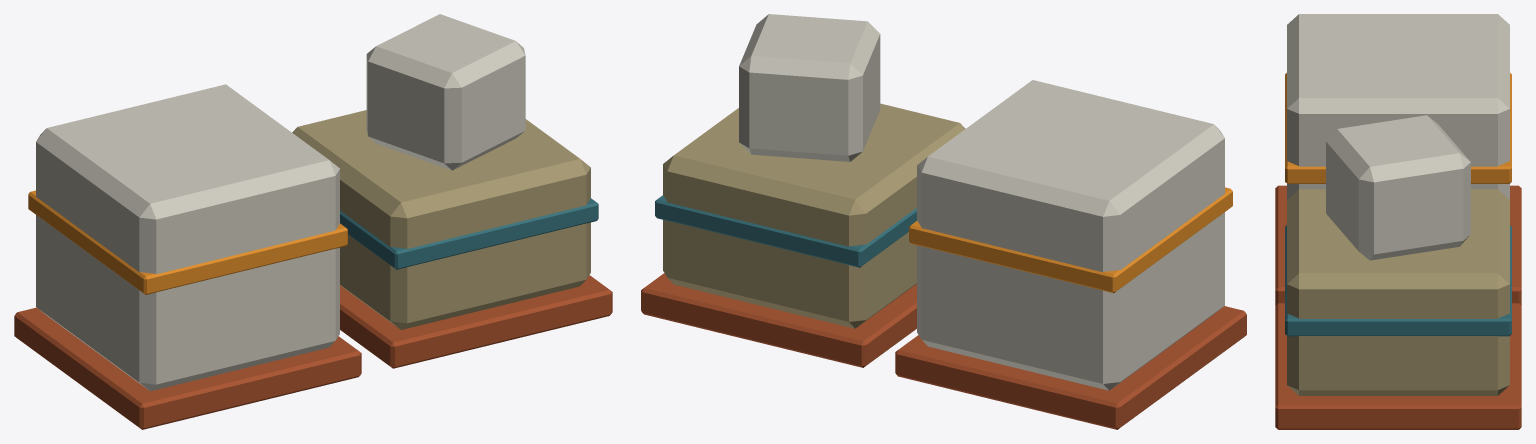
Rendered from fh_pallet_stack.glb.
3 renders of one model, left to right at view 1: azimuth 30°, elevation 25°; view 2: azimuth 150°, elevation 25°; view 3: azimuth 270°, elevation 25°, orthographic. The views are drawn at different scales.
Parts seen in each view (by area): view 1: fh_pallet_stack; view 2: fh_pallet_stack; view 3: fh_pallet_stack.
Boxes of the visible parts, x1,y1,x2,y2 form: fh_pallet_stack: (14, 14, 612, 429); fh_pallet_stack: (641, 14, 1246, 429); fh_pallet_stack: (1275, 14, 1521, 429).
Size of the model in its own units: 1.32 by 0.67 by 0.62.
